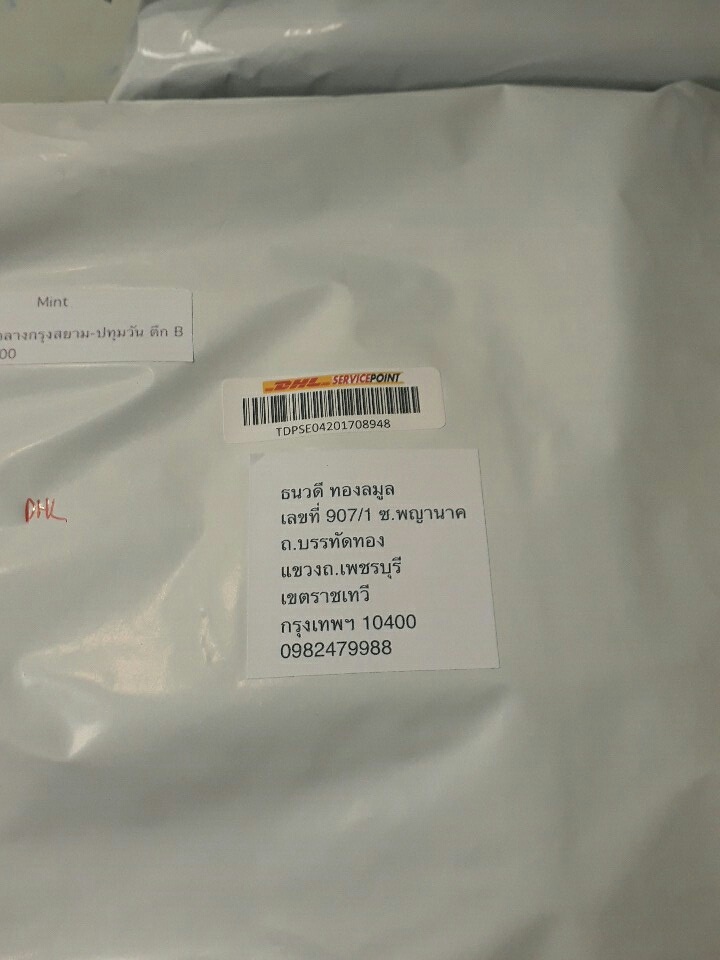ba: (210, 356, 459, 445)
txt: (272, 475, 476, 665)
